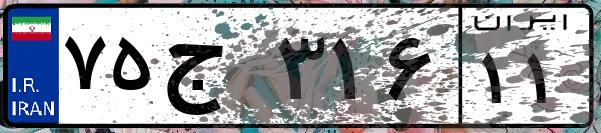1: (330, 28, 385, 110), (475, 38, 525, 113), (525, 38, 570, 115)
3: (270, 28, 330, 110)
5: (110, 28, 158, 98)
6: (385, 28, 445, 110)
7: (57, 26, 110, 100)
ج: (158, 20, 270, 120)
